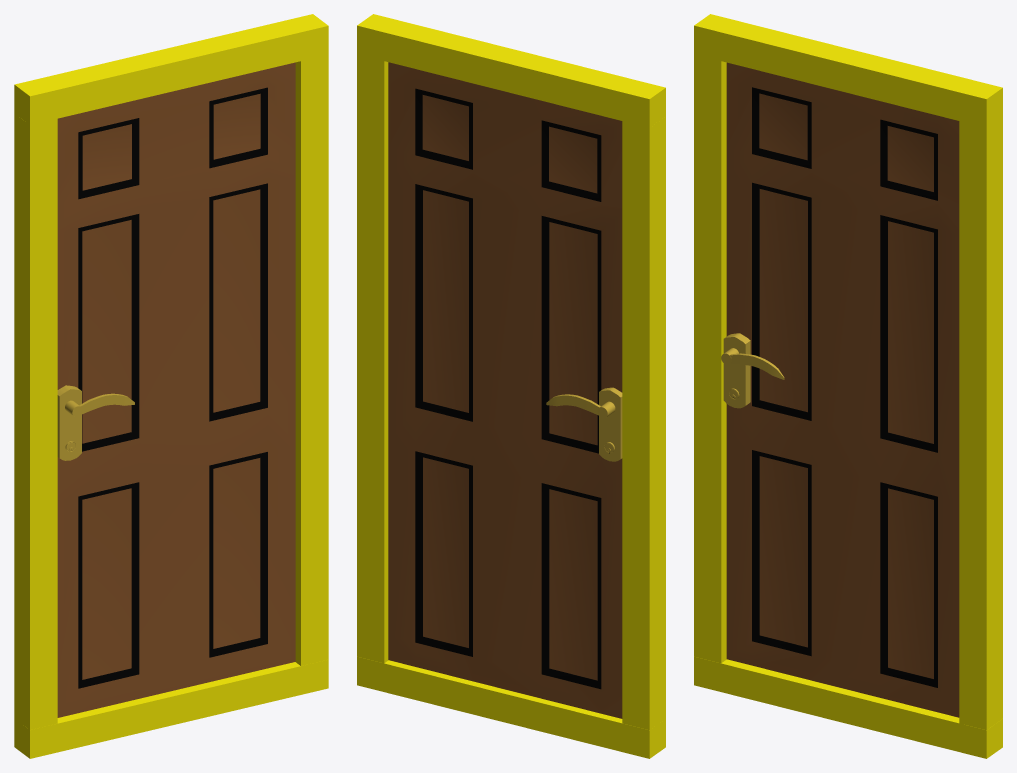
The model's file is OPened_dor.fbx.
3 views of the same model, side by side, from view 1: azimuth 30°, elevation 25°; view 2: azimuth 150°, elevation 25°; view 3: azimuth 330°, elevation 25° (orthographic).
Parts seen in each view (by area): view 1: pCube5, polySurface1, Door_1; view 2: pCube5, polySurface1, Door_1; view 3: pCube5, polySurface1, Door_1.
Boxes of the visible parts, <box> form: pCube5: <box>57,62,295,717</box>; polySurface1: <box>14,14,328,758</box>; Door_1: <box>57,385,134,460</box>; pCube5: <box>388,62,622,718</box>; polySurface1: <box>357,14,665,758</box>; Door_1: <box>546,387,622,461</box>; pCube5: <box>726,62,959,717</box>; polySurface1: <box>694,14,1002,758</box>; Door_1: <box>721,333,784,408</box>.
Bounding box in the file's own units: 1028 × 2195 × 185.
